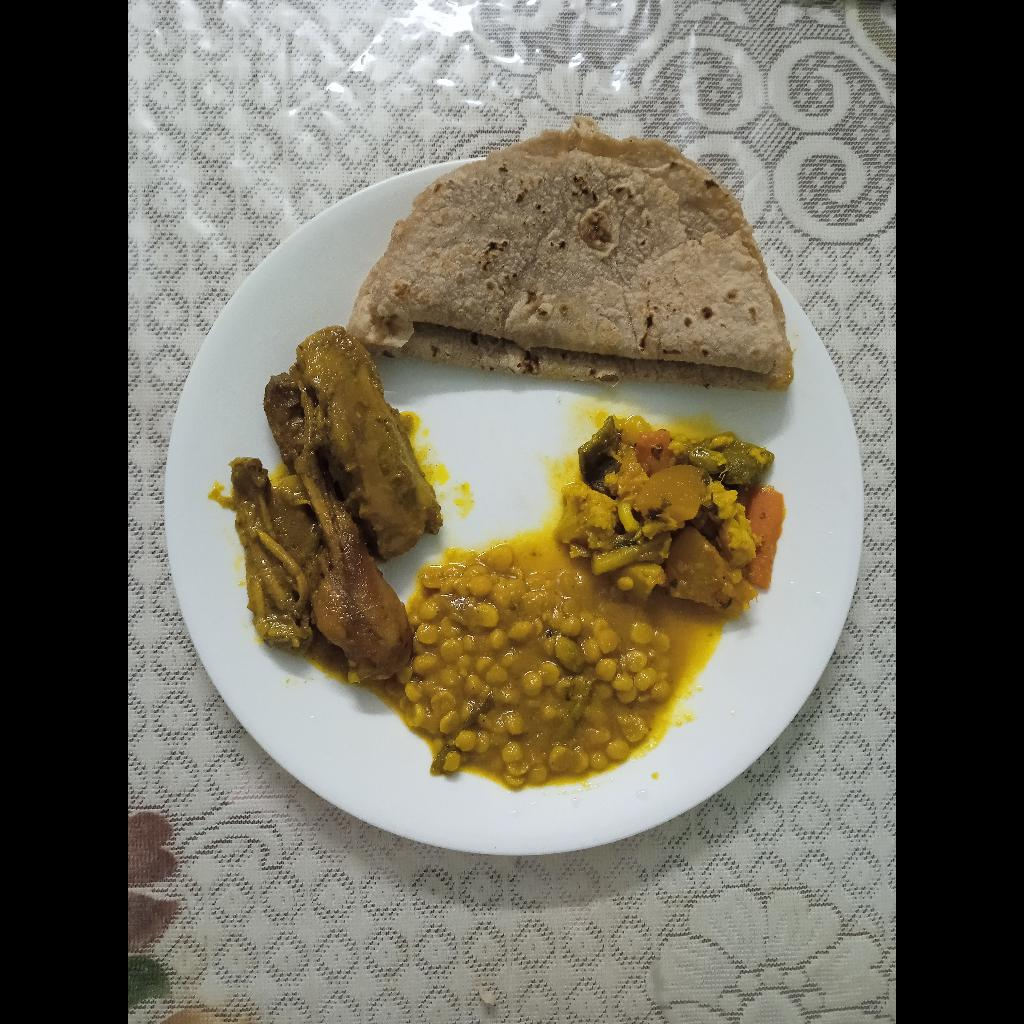chicken: (229, 324, 443, 685)
daal: (387, 539, 674, 787)
ruti: (347, 115, 796, 391)
vegetable: (554, 414, 785, 611)
